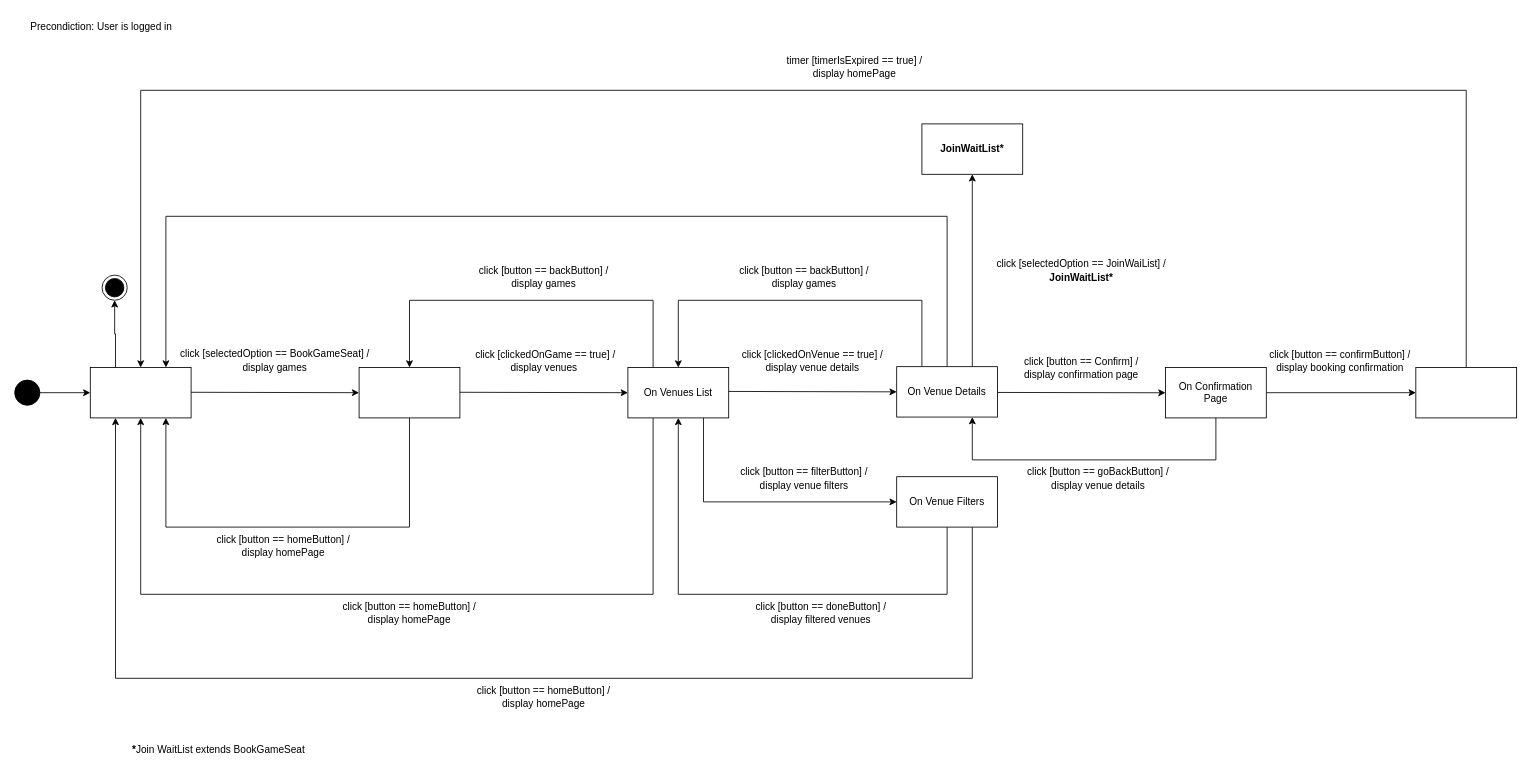
Some shapes in this 1531 by 776 pixel diagram are drawn without their labels. Here are the shapes that lost their labels. From the top down, the centre of each, then its label:
the point at 140,392: On Home Page
the point at 409,392: On Games List
the point at 1466,392: On Booking Confirmation
